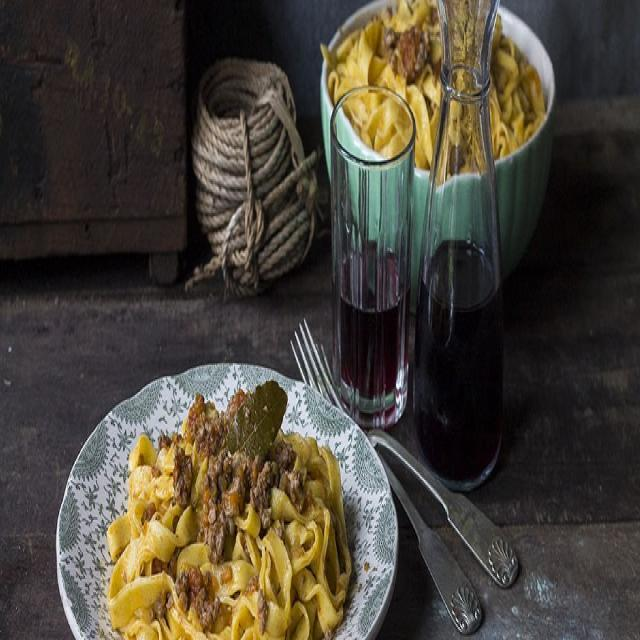Pasta al ragu: (83, 395, 385, 635)
